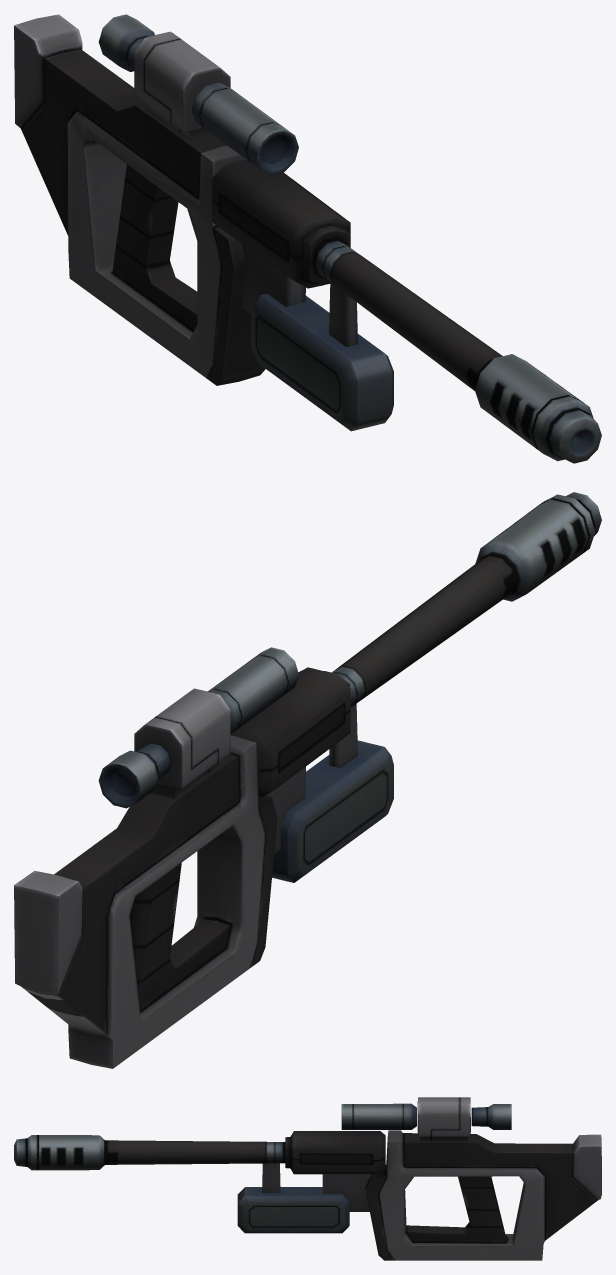
The model's file is RavagerLeaderSniper_TRUE_FBX.fbx.
The picture shows the model from 3 angles, top to bottom: view 1: azimuth 30°, elevation 25°; view 2: azimuth 150°, elevation 25°; view 3: azimuth 270°, elevation 25°; orthographic projection. The views are drawn at different scales.
Parts seen in each view (by area): view 1: RenegadeLeaderSniper; view 2: RenegadeLeaderSniper; view 3: RenegadeLeaderSniper.
Part boxes in pixels (x1,y1,x2,y2): RenegadeLeaderSniper: (14,14,601,463); RenegadeLeaderSniper: (14,492,601,1068); RenegadeLeaderSniper: (14,1097,601,1260).
Bounding box in the file's own units: 0.0927 × 1.48 × 0.4289.
